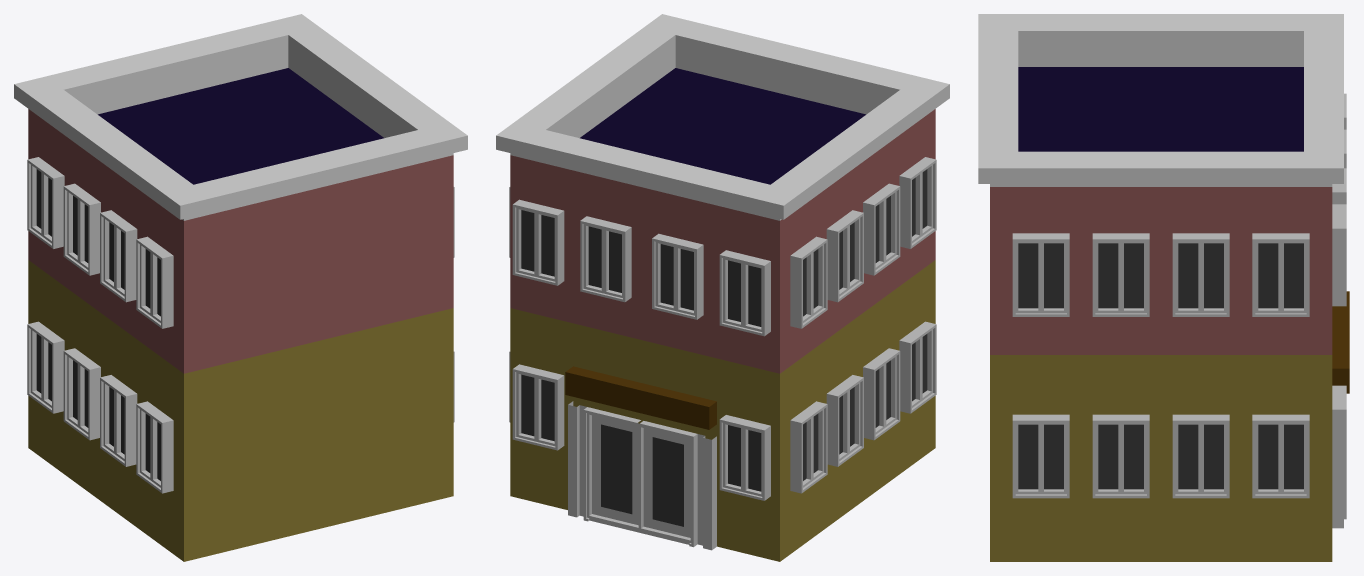
File: Building_7 (1).fbx
3 renders of one model, left to right at view 1: azimuth 30°, elevation 25°; view 2: azimuth 150°, elevation 25°; view 3: azimuth 270°, elevation 25°, orthographic. The views are drawn at different scales.
Visible parts, largest first — view 1: Building_7; view 2: Building_7; view 3: Building_7.
Boxes of the visible parts, bbox=[...] form: Building_7: bbox=[14, 14, 467, 561]; Building_7: bbox=[496, 14, 949, 561]; Building_7: bbox=[978, 14, 1349, 561].
Bounding box in the file's own units: 650 × 770 × 650.
